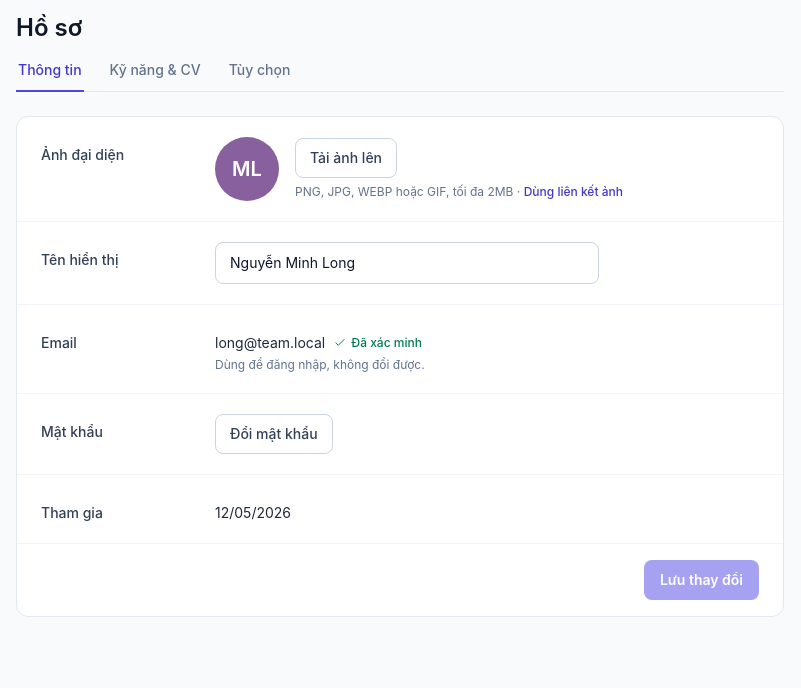
Test: ProfilePage › "Dùng liên kết ảnh" mở ô dán liên kết; đổi liên kết thì được tính là thay đổi chưa lưu
Click the button "Dùng liên kết ảnh" at (573, 192), box 524,184 -> 623,200
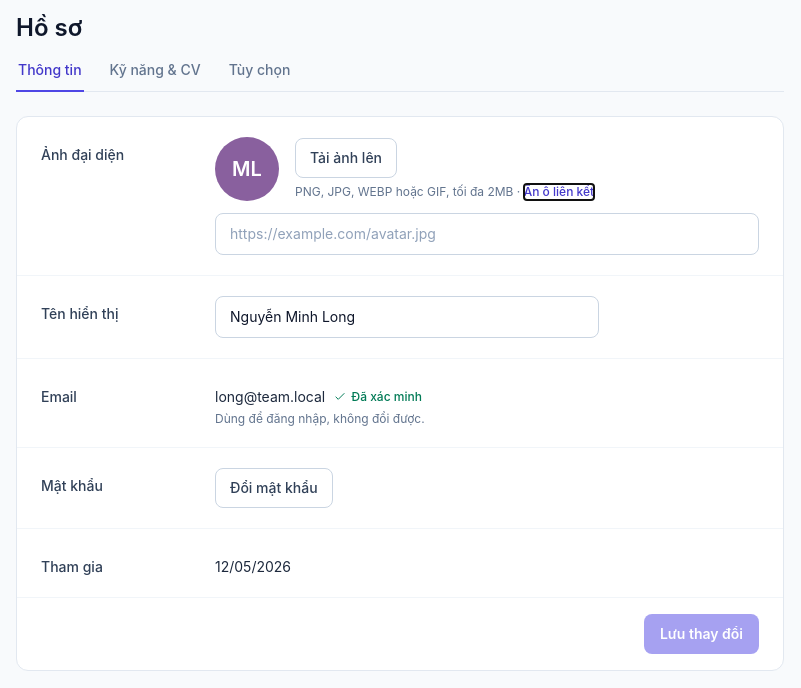
Expected: the field named "Liên kết ảnh đại diện" is shown
Type "https://example.com/a.jpg" into the field named "Liên kết ảnh đại diện" at (487, 234), box 215,213 -> 759,255
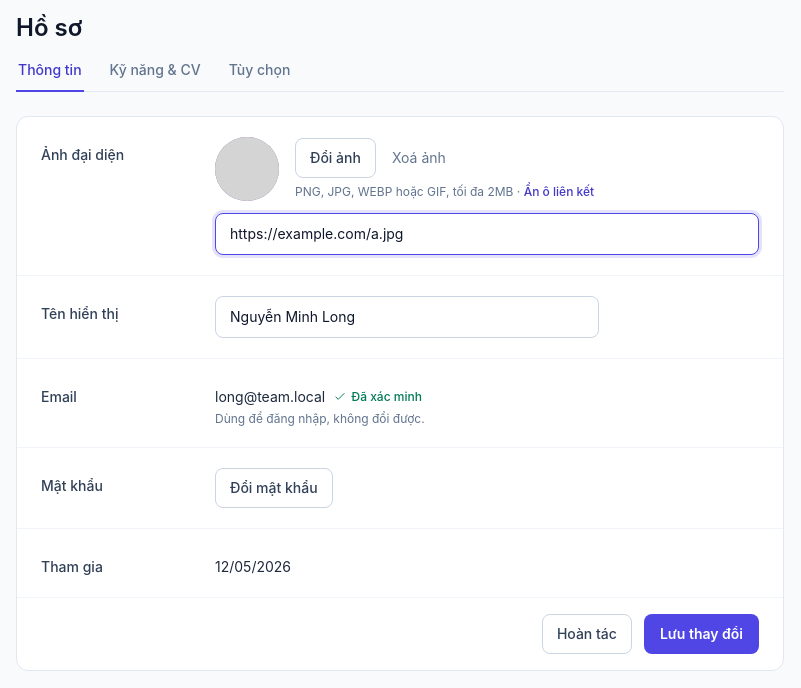
Expected: the button "Lưu thay đổi" is enabled, 644,614 -> 759,654
